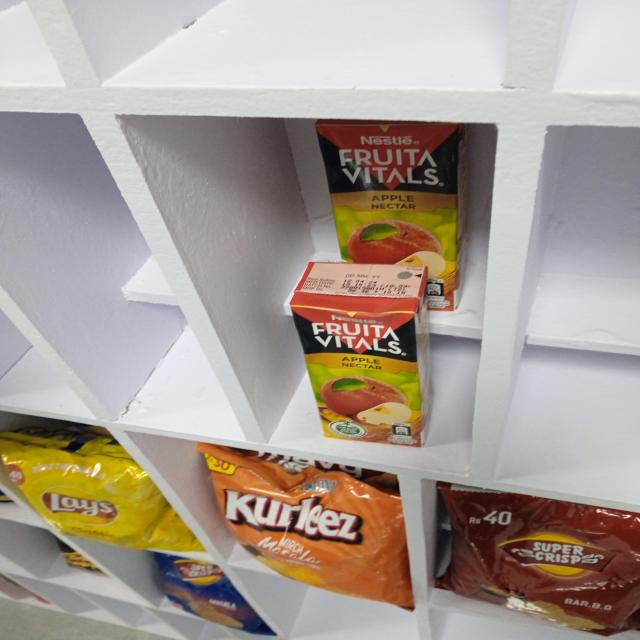Plastic: (446, 486, 632, 636), (226, 452, 404, 591), (296, 263, 422, 443), (8, 438, 179, 556), (322, 118, 454, 260), (154, 570, 222, 632)
